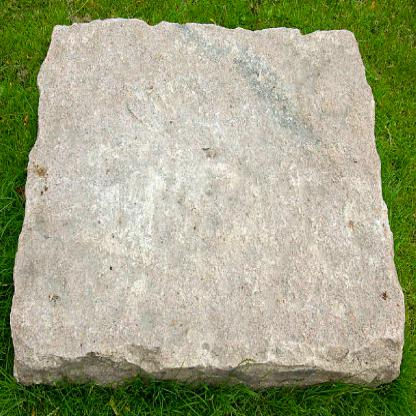Metamorphic_Marble: (6, 13, 405, 395)
